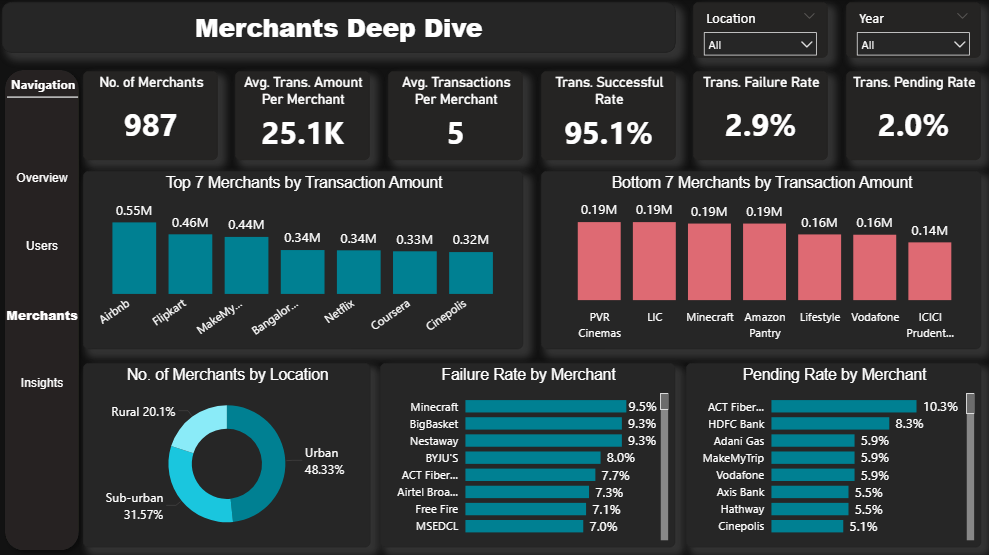

The page's visual inventory and layout, read from the dashboard file:
{"tool":"powerbi","page":{"name":"Merchants Deep Dive","canvas":[1280,720],"ordinal":2},"visuals":[{"type":"textbox","box":[5.7,4.3,868.8,65.2],"z":0},{"type":"shape","box":[0,82.2,113.4,637.8],"z":0,"group":"g1"},{"type":"group","id":"g1","title":"Group 1","box":[0,82.2,113.4,637.8],"z":1000},{"type":"textbox","box":[11.3,93.5,93.5,31.2],"z":1000,"group":"g1"},{"type":"card","title":"No. of Merchants","fields":{"Values":["All Measures.No. of Merchants"]},"box":[109.1,93.5,174.3,114.8],"z":2000},{"type":"shape","box":[11.3,117.6,92.1,18.4],"z":2000,"group":"g1"},{"type":"card","title":"Avg. Trans. Amount Per Merchant","fields":{"Values":["All Measures.Avg. Transaction Amount Per Merchant"]},"box":[306.1,93.5,174.3,114.8],"z":3000},{"type":"actionButton","box":[5.7,211.2,103.5,39.7],"z":3000,"group":"g1"},{"type":"card","title":"Avg. Transactions Per Merchant","fields":{"Values":["All Measures.Avg. No. of trans per mertchant"]},"box":[503.1,93.5,174.3,114.8],"z":4000},{"type":"actionButton","box":[5.7,299.5,103.5,39.7],"z":4000,"group":"g1"},{"type":"card","title":"Trans. Successful Rate","fields":{"Values":["All Measures.Successful Rate"]},"box":[700.2,93.5,174.3,114.8],"z":5000},{"type":"actionButton","box":[5.7,387.9,103.5,39.7],"z":5000,"group":"g1"},{"type":"card","title":"Trans. Failure Rate","fields":{"Values":["All Measures.Failure Rate"]},"box":[897.2,93.5,174.3,114.8],"z":6000},{"type":"actionButton","box":[5.7,476.2,103.5,39.7],"z":6000,"group":"g1"},{"type":"card","title":"Trans. Pending Rate","fields":{"Values":["All Measures.Pending Rate"]},"box":[1094.2,93.5,174.3,114.8],"z":7000},{"type":"clusteredColumnChart","title":"Top 7 Merchants by Transaction Amount","fields":{"Y":["All Measures.Total Transactions Amount"],"Category":["Digital_Wallet_Data.Merchant Name"]},"box":[109.1,222.2,568.3,229.6],"z":8000},{"type":"clusteredColumnChart","title":"Bottom 7 Merchants by Transaction Amount","fields":{"Y":["All Measures.Total Transactions Amount"],"Category":["Digital_Wallet_Data.Merchant Name"]},"box":[700.2,222.2,568.3,229.6],"z":9000},{"type":"donutChart","fields":{"Y":["All Measures.No. of Merchants"],"Category":["Digital_Wallet_Data.Location"]},"box":[109.1,469.1,371.3,238.1],"z":10000},{"type":"clusteredBarChart","title":"Failure Rate by Merchant","fields":{"Category":["Digital_Wallet_Data.Merchant Name"],"Y":["All Measures.Failure Rate"]},"box":[493.2,469.1,381.3,238.1],"z":11000},{"type":"clusteredBarChart","title":"Pending Rate by Merchant","fields":{"Category":["Digital_Wallet_Data.Merchant Name"],"Y":["All Measures.Pending Rate"]},"box":[887.2,469.1,381.3,238.1],"z":12000},{"type":"slicer","fields":{"Values":["Digital_Wallet_Data.Transaction Date.Variation.Date Hierarchy.Year"]},"box":[1094.2,4.3,174.3,72.3],"z":13000},{"type":"slicer","fields":{"Values":["Digital_Wallet_Data.Location"]},"box":[897.2,4.3,174.3,72.3],"z":14000}]}

Visuals, with their boxes in screenshot pixels (x1, y1, x2, y2), scaled from the page's 1280x720 canvas onto the 989x555 screenshot:
textbox: (left=4, top=3, right=676, bottom=54)
shape: (left=0, top=63, right=88, bottom=554)
"Group 1" group: (left=0, top=63, right=88, bottom=554)
textbox: (left=9, top=72, right=81, bottom=96)
"No. of Merchants" card: (left=84, top=72, right=219, bottom=161)
shape: (left=9, top=91, right=80, bottom=105)
"Avg. Trans. Amount Per Merchant" card: (left=237, top=72, right=371, bottom=161)
actionButton: (left=4, top=163, right=84, bottom=193)
"Avg. Transactions Per Merchant" card: (left=389, top=72, right=523, bottom=161)
actionButton: (left=4, top=231, right=84, bottom=261)
"Trans. Successful Rate" card: (left=541, top=72, right=676, bottom=161)
actionButton: (left=4, top=299, right=84, bottom=330)
"Trans. Failure Rate" card: (left=693, top=72, right=828, bottom=161)
actionButton: (left=4, top=367, right=84, bottom=398)
"Trans. Pending Rate" card: (left=845, top=72, right=980, bottom=161)
"Top 7 Merchants by Transaction Amount" clusteredColumnChart: (left=84, top=171, right=523, bottom=348)
"Bottom 7 Merchants by Transaction Amount" clusteredColumnChart: (left=541, top=171, right=980, bottom=348)
donutChart - All Measures.No. of Merchants x Digital_Wallet_Data.Location: (left=84, top=362, right=371, bottom=545)
"Failure Rate by Merchant" clusteredBarChart: (left=381, top=362, right=676, bottom=545)
"Pending Rate by Merchant" clusteredBarChart: (left=686, top=362, right=980, bottom=545)
slicer - Digital_Wallet_Data.Transaction Date.Variation.Date Hierarchy.Year: (left=845, top=3, right=980, bottom=59)
slicer - Digital_Wallet_Data.Location: (left=693, top=3, right=828, bottom=59)
